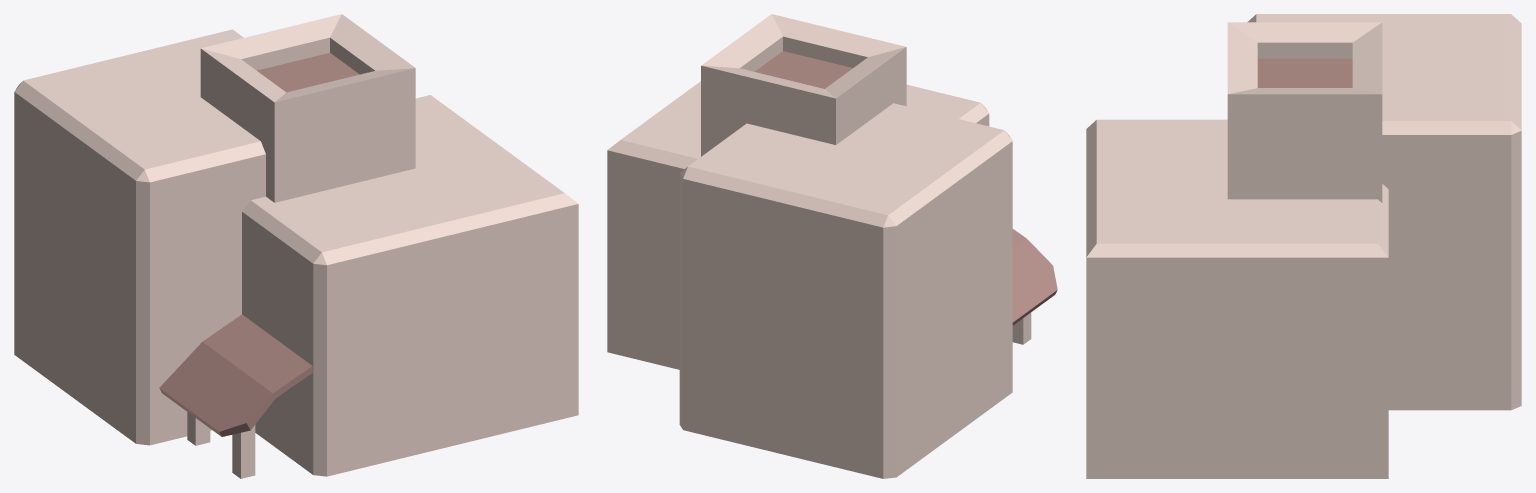
Rendered from Edificio002.FBX.
The picture shows the model from 3 angles, left to right: view 1: azimuth 30°, elevation 25°; view 2: azimuth 150°, elevation 25°; view 3: azimuth 270°, elevation 25°; orthographic projection. The views are drawn at different scales.
Visible parts, largest first — view 1: Edificio002; view 2: Edificio002; view 3: Edificio002.
Part boxes in pixels (x1,y1,x2,y2): Edificio002: (14,14,578,478); Edificio002: (607,14,1057,478); Edificio002: (1086,14,1521,478).
Bounding box in the file's own units: 1058 × 898 × 1055.
